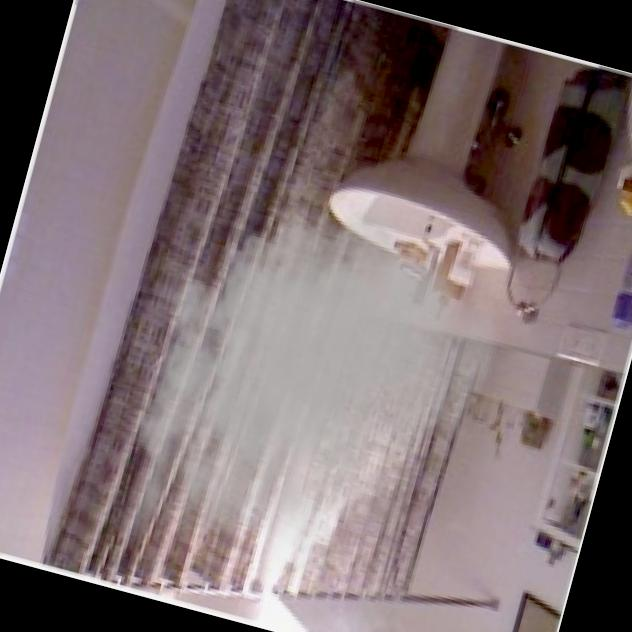smoke: (87, 135, 541, 632)
